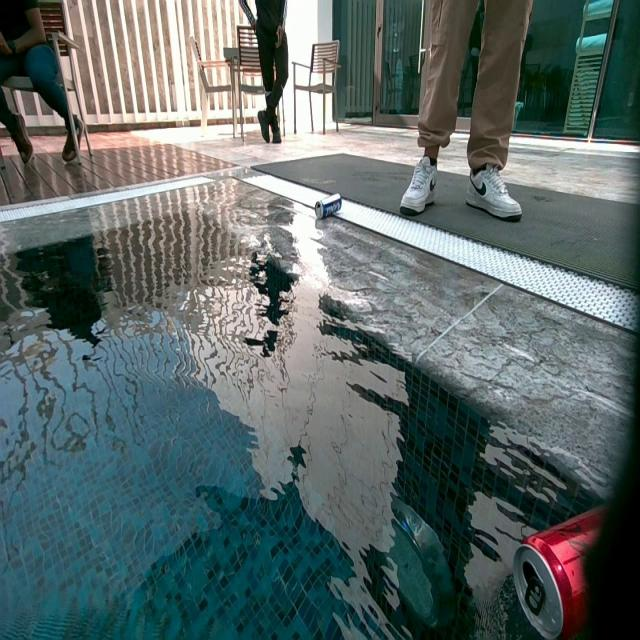Cans: (514, 509, 601, 640), (313, 193, 342, 220)
